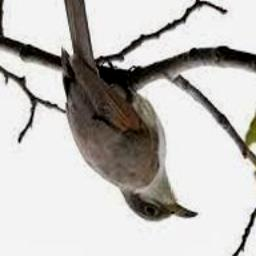Cuckoo: (57, 0, 199, 222)
